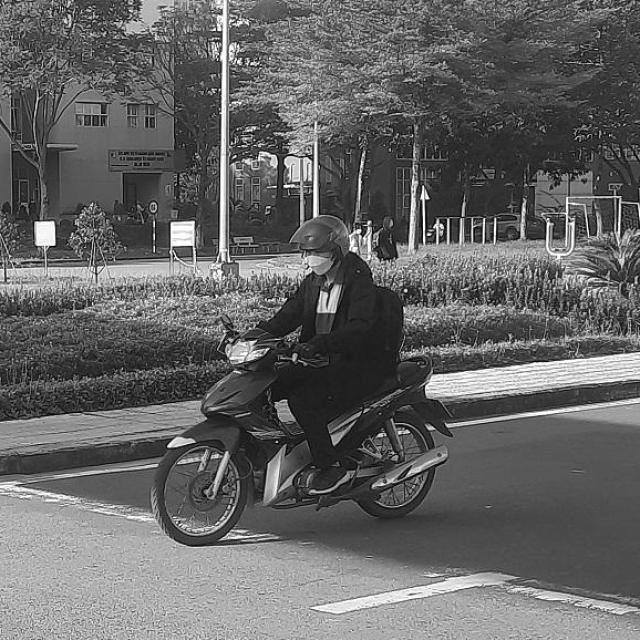Helmet: (292, 211, 348, 278)
